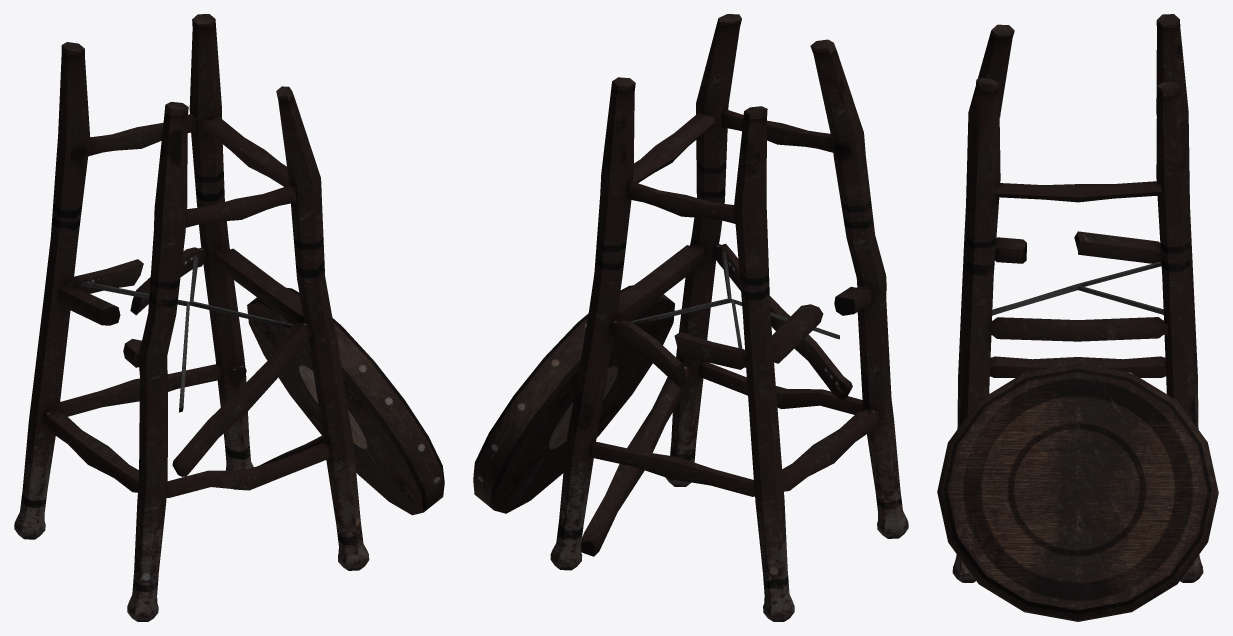
The model's file is Lab Stool Shattered.fbx.
The picture shows the model from 3 angles, left to right: view 1: azimuth 30°, elevation 25°; view 2: azimuth 150°, elevation 25°; view 3: azimuth 270°, elevation 25°; orthographic projection. The views are drawn at different scales.
Visible parts, largest first — view 1: Cylinder_001; view 2: Cylinder_001; view 3: Cylinder_001.
Boxes of the visible parts, box(x1,y1,x2,y2) form: Cylinder_001: box(14, 14, 444, 621); Cylinder_001: box(473, 14, 908, 621); Cylinder_001: box(937, 14, 1218, 621).
Size of the model in its own units: 71.6 by 99.17 by 53.02.
